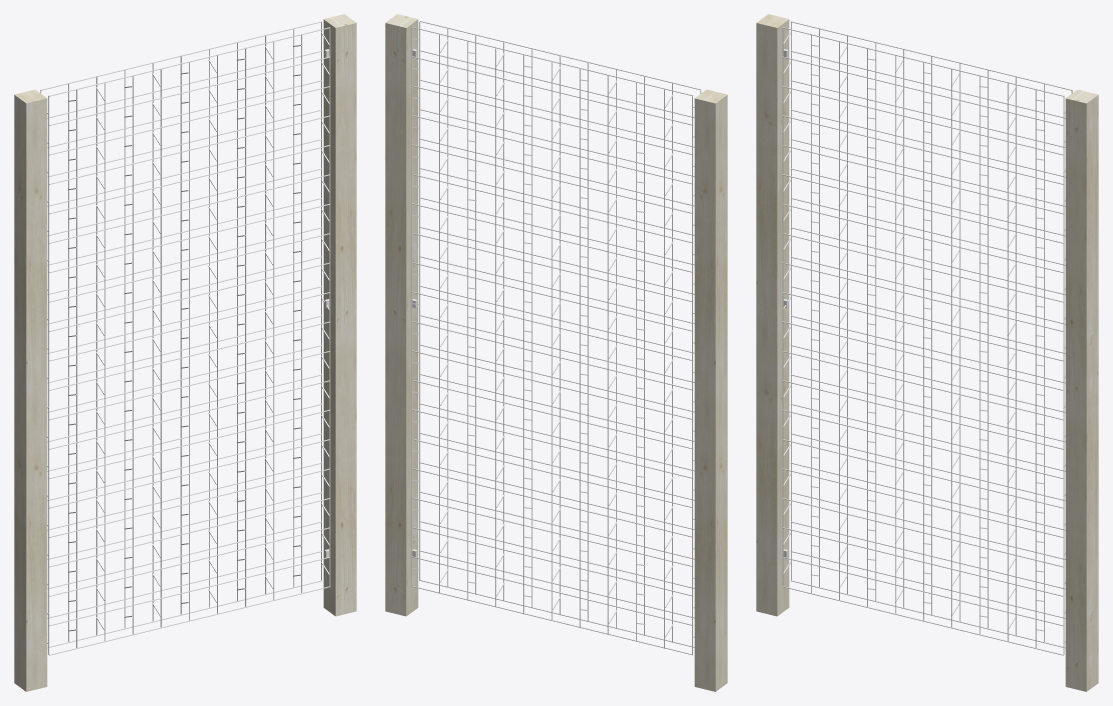
The model's file is toremeshfence_w1100_white_whitepine.fbx.
The picture shows the model from 3 angles, left to right: view 1: azimuth 30°, elevation 25°; view 2: azimuth 150°, elevation 25°; view 3: azimuth 330°, elevation 25°; orthographic projection.
Parts seen in each view (by area): view 1: トレメッシュ1100.019; view 2: トレメッシュ1100.019; view 3: トレメッシュ1100.019.
Boxes of the visible parts, <box> form: トレメッシュ1100.019: <box>14,14,356,691</box>; トレメッシュ1100.019: <box>385,14,727,691</box>; トレメッシュ1100.019: <box>756,14,1098,691</box>.
Bounding box in the file's own units: 117 × 200 × 7.5.
3 materials, 3 textured.
